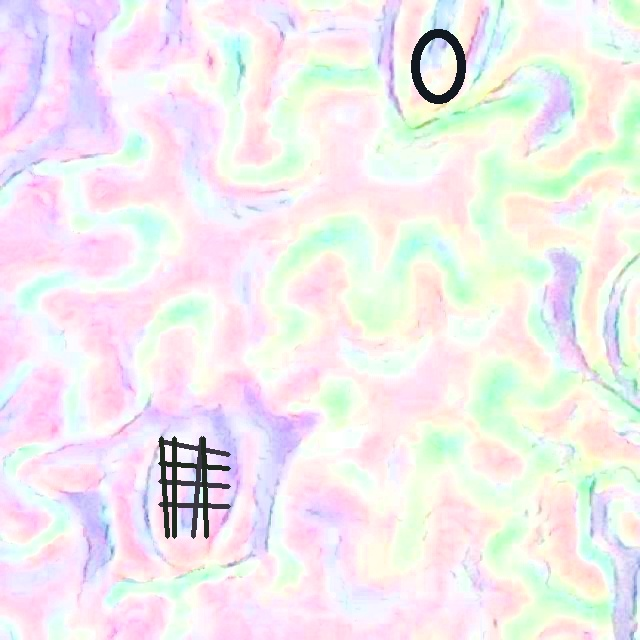open: (159, 436, 229, 538), (410, 29, 467, 103)
